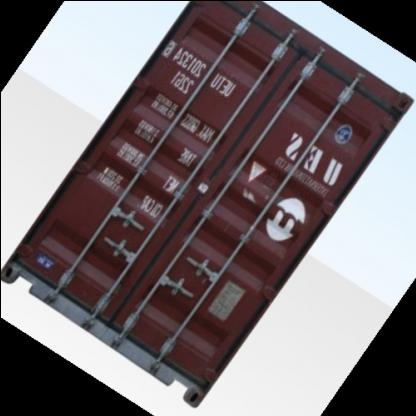Damage: (352, 80, 404, 120), (239, 160, 283, 205)
